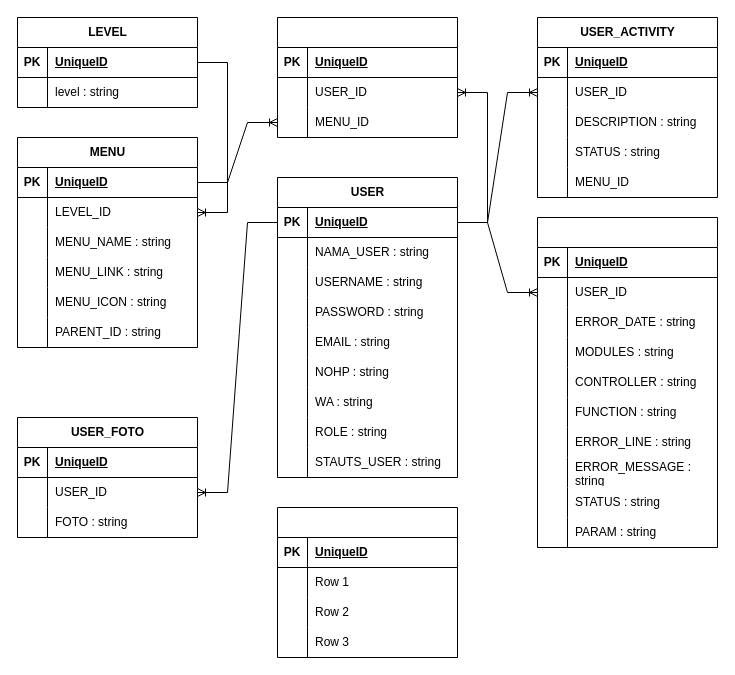
This 735x675 diagram has some shape labels left out. The shapes that lost their labels are listed below. From the top down, each one's box as (x1, y1, x2, y2) in pixels, then its label:
(276, 16, 458, 138): MENU_USER
(536, 216, 718, 548): I_ERROR_APPLICATION
(276, 506, 458, 658): ABSEN
